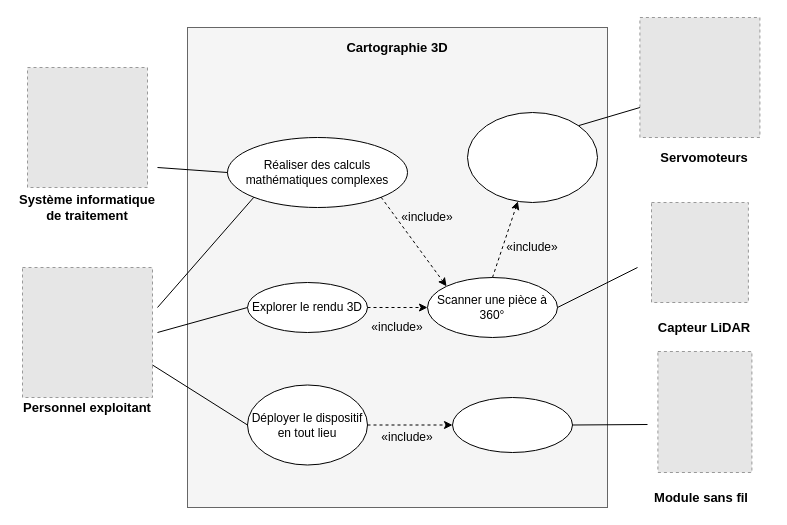
Image size: 787x525. Some labels were removed from this diagram. Grey dashed boxes stand in for pictures. Here are the shapes that lost their labels. From the top down, the centre of each, then its label:
the point at 532,157: Balayage en élévation et en azimut
the point at 512,424: Communication à distance
